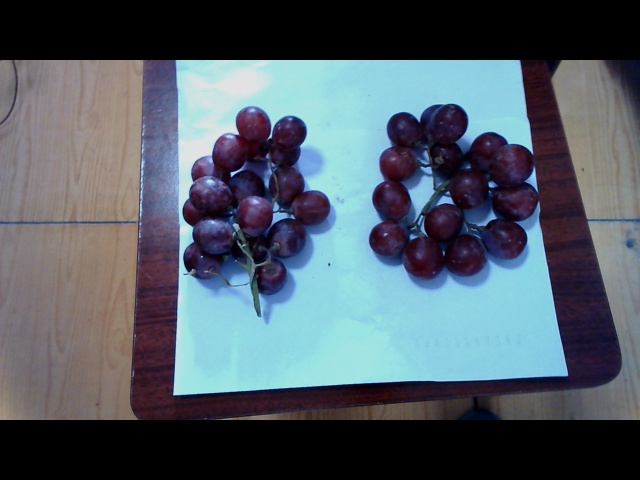grape: (362, 91, 540, 292), (179, 119, 326, 311)
